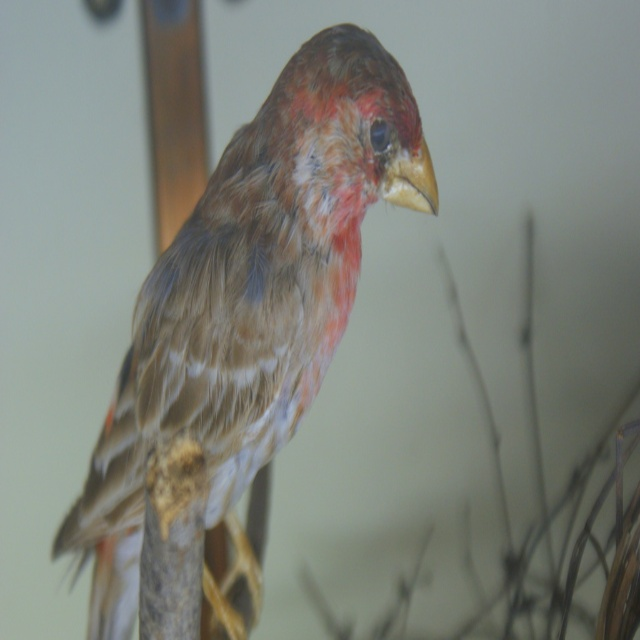Canary: (51, 19, 441, 639)
